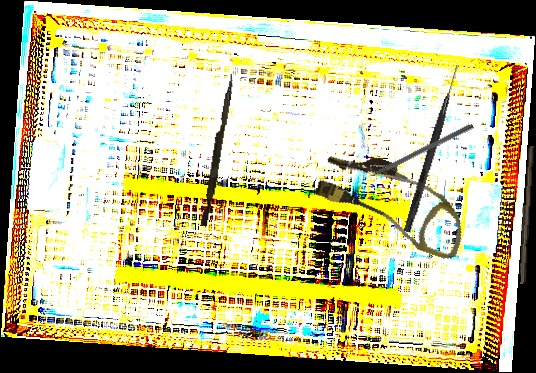Cannula: (308, 141, 478, 263)
Hook Surgical: (403, 63, 461, 234)
Pusher: (354, 122, 475, 185), (200, 72, 235, 228)
Scalpel Handle: (517, 145, 535, 285)
